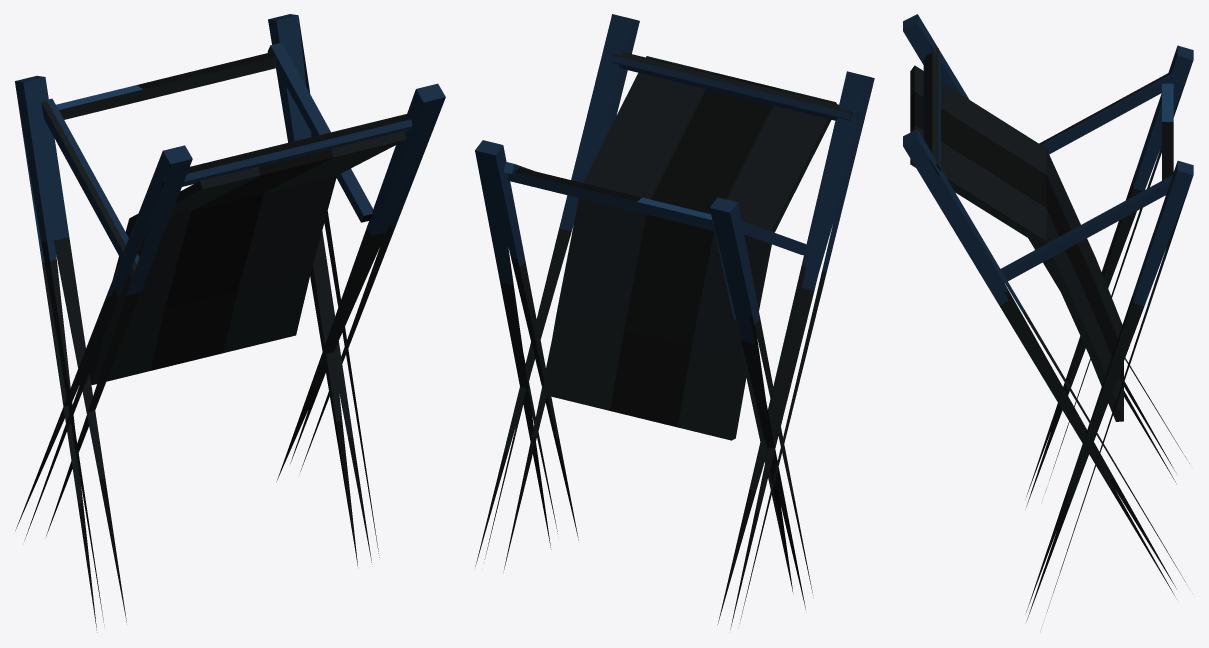
3 renders of one model, left to right at view 1: azimuth 30°, elevation 25°; view 2: azimuth 150°, elevation 25°; view 3: azimuth 270°, elevation 25°, orthographic. The views are drawn at different scales.
Size of the model in its own units: 0.7195 by 1.33 by 0.7092.
